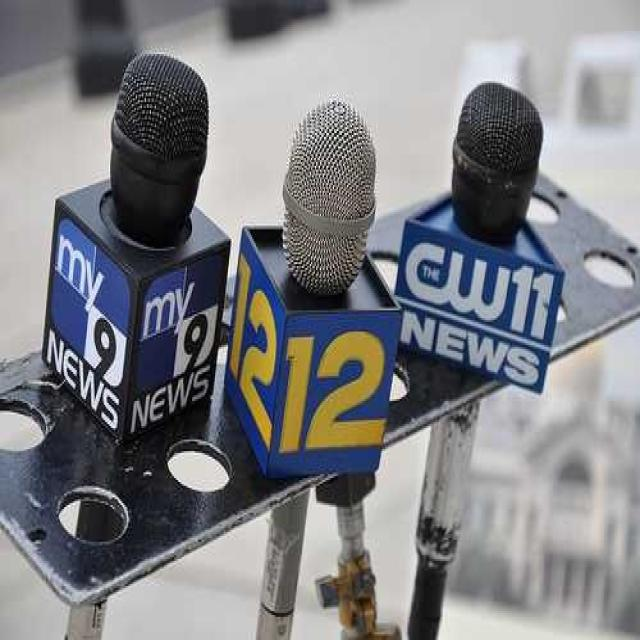microphone: (46, 48, 231, 638), (241, 93, 394, 620), (403, 86, 549, 629)
